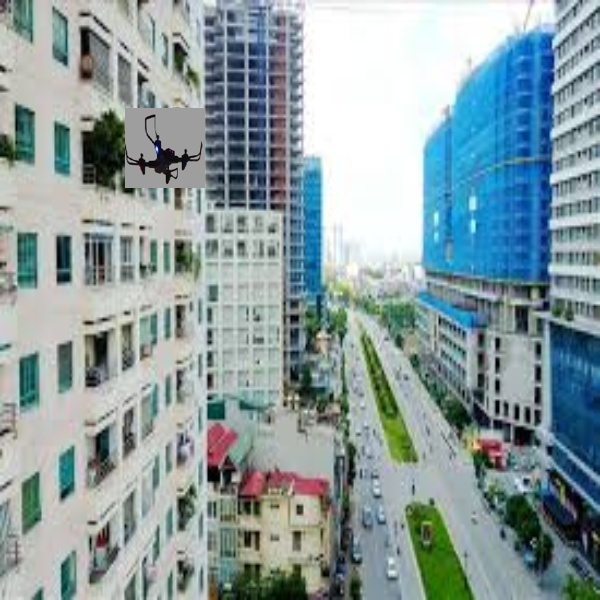drone: (125, 106, 207, 185)
